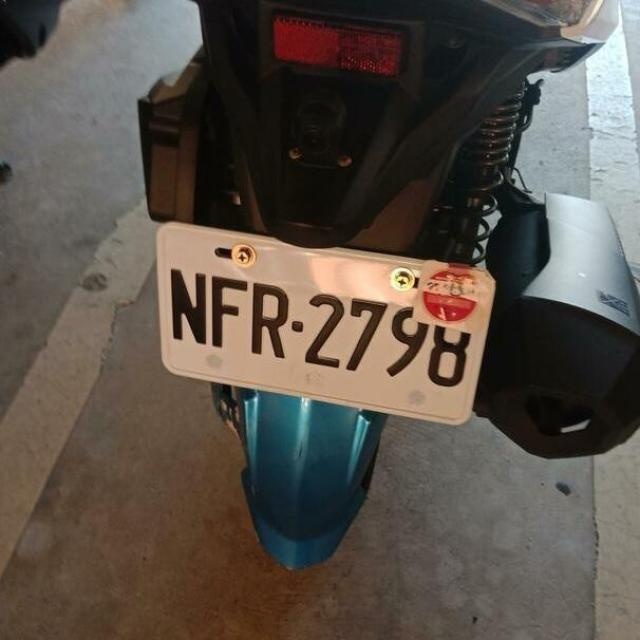W: (138, 218, 498, 428)
